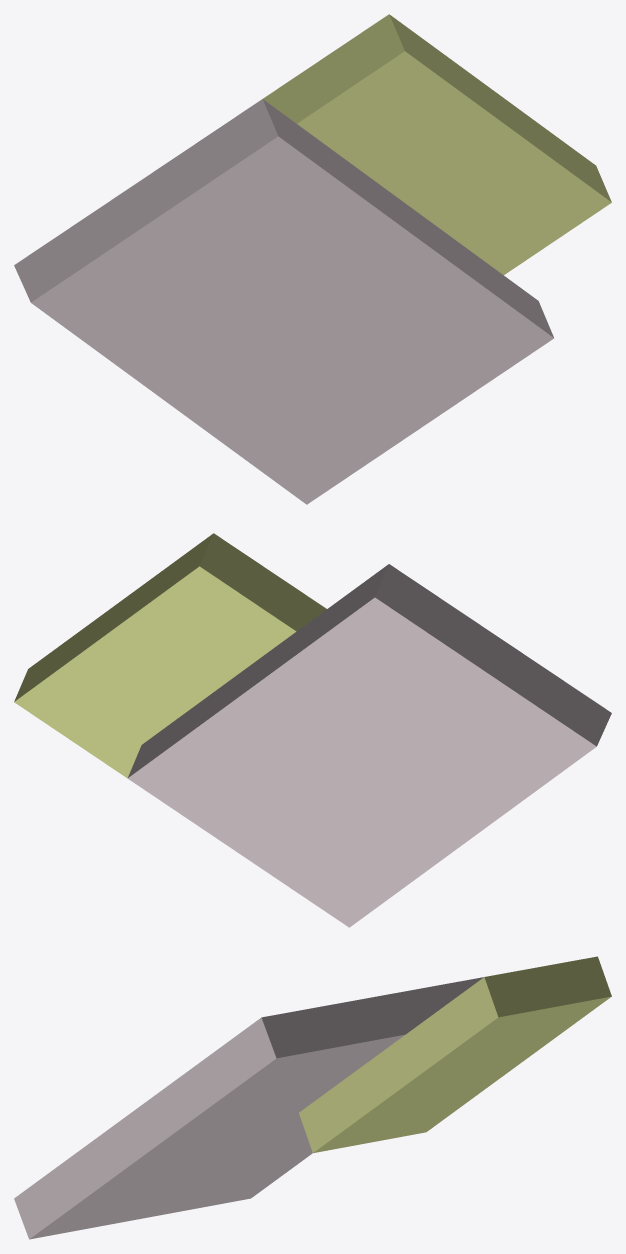
The picture shows the model from 3 angles, top to bottom: view 1: azimuth 30°, elevation 25°; view 2: azimuth 150°, elevation 25°; view 3: azimuth 330°, elevation 25°; orthographic projection. The views are drawn at different scales.
Parts seen in each view (by area): view 1: 0_2_2_3_0_0_0_0_2_0_0; view 2: 0_2_2_3_0_0_0_0_2_0_0; view 3: 0_2_2_3_0_0_0_0_2_0_0.
Part boxes in pixels (left/top/right/bottom): 0_2_2_3_0_0_0_0_2_0_0: left=14, top=14, right=611, bottom=504; 0_2_2_3_0_0_0_0_2_0_0: left=14, top=533, right=611, bottom=927; 0_2_2_3_0_0_0_0_2_0_0: left=14, top=956, right=611, bottom=1239.
Bounding box in the file's own units: 9.81 × 4.83 × 12.
